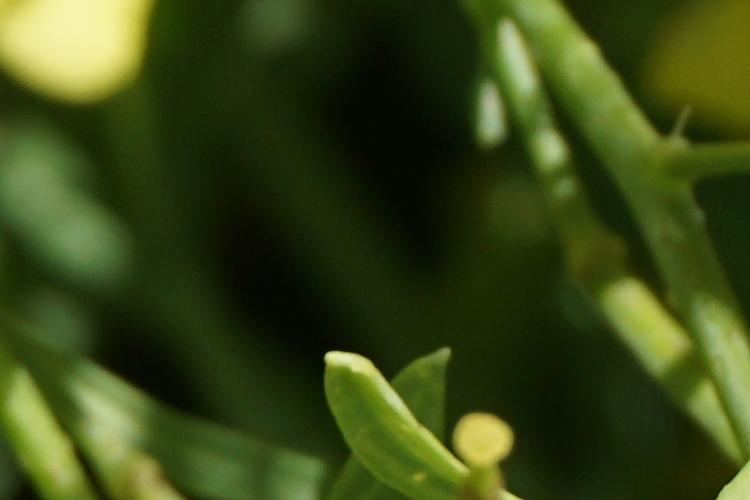bud: (290, 348, 499, 487)
